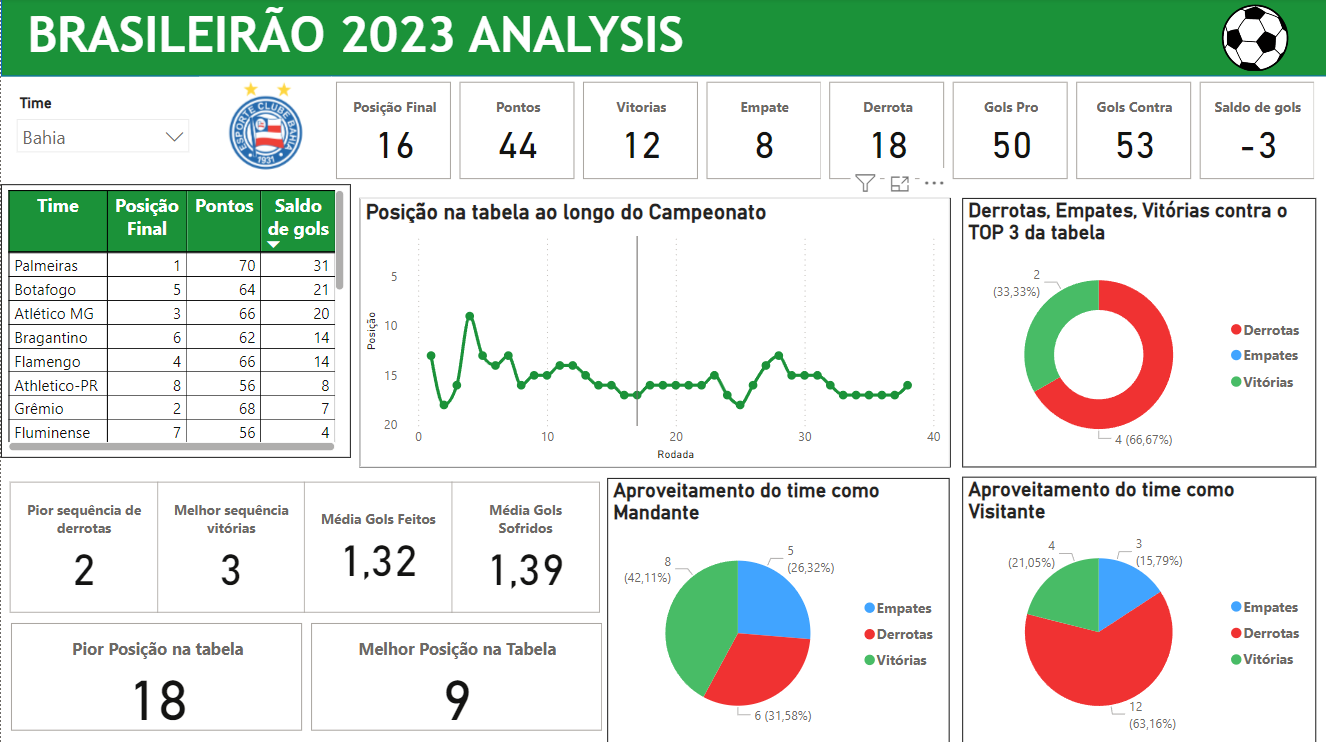

The dashboard page shown, as its layout file describes it:
{"tool":"powerbi","page":{"name":"Desempenho Individual","canvas":[1280,720],"ordinal":3},"visuals":[{"type":"shape","box":[0,0,1280,75.7],"z":0},{"type":"textbox","box":[20,2.9,672.9,72.9],"z":1000},{"type":"cardVisual","fields":{"Data":["Sum(TABELA_CLASS_FINAL.posicao)","Sum(TABELA_CLASS_FINAL.pontos)","Sum(TABELA_CLASS_FINAL.vitoria)","Sum(TABELA_CLASS_FINAL.empate)","Sum(TABELA_CLASS_FINAL.derrota)","Sum(TABELA_CLASS_FINAL.gols_pro)","Sum(TABELA_CLASS_FINAL.gols_contra)","Sum(TABELA_CLASS_FINAL.saldo_de_gols)"]},"box":[318.6,75.7,961.4,104.3],"z":2000},{"type":"areaChart","title":"Posição na tabela ao longo do Campeonato","fields":{"Category":["brasileirao classificacao_2023.Rodada"],"Y":["Sum(brasileirao classificacao_2023.Posicao)"]},"box":[346.2,192.5,570,260],"z":3000},{"type":"cardVisual","fields":{"Data":["Max(brasileirao classificacao_2023.Derrotas_consecutivas)","Max(brasileirao classificacao_2023.Vitorias_consecutivas)","Sum(TABELA_CLASS_FINAL.media_gols_feitos)","Sum(TABELA_CLASS_FINAL.media_gols_sofridos)"]},"box":[3.8,462.5,582.5,136.2],"z":4000},{"type":"cardVisual","fields":{"Data":["Max(brasileirao classificacao_2023.Posicao)","Min(brasileirao classificacao_2023.Posicao)"]},"box":[4.3,598.6,581.4,114.3],"z":5000},{"type":"pieChart","title":"Aproveitamento do time como Visitante","fields":{"Y":["Sum(TABELA_FINAL_VIT_DER_EMP_CASA_FORA.empates_visitante)","Sum(TABELA_FINAL_VIT_DER_EMP_CASA_FORA.derrotas_visitante)","Sum(TABELA_FINAL_VIT_DER_EMP_CASA_FORA.vitorias_visitante)"]},"box":[927.5,462.5,341.2,257.5],"z":6000},{"type":"pieChart","title":"Aproveitamento do time como Mandante","fields":{"Y":["Sum(TABELA_FINAL_VIT_DER_EMP_CASA_FORA.empates_mandante)","Sum(TABELA_FINAL_VIT_DER_EMP_CASA_FORA.derrotas_mandante)","Sum(TABELA_FINAL_VIT_DER_EMP_CASA_FORA.vitorias_mandante)"]},"box":[585.7,462.9,330,257.1],"z":7000},{"type":"donutChart","title":"Derrotas, Empates, Vitórias contra o TOP 3 da tabela","fields":{"Y":["Sum(CONFRONTO_DIRETO_TOP_3.derrotas)","Sum(CONFRONTO_DIRETO_TOP_3.empates)","Sum(CONFRONTO_DIRETO_TOP_3.victories)"]},"box":[927.5,192.5,341.2,260],"z":8000},{"type":"slicer","fields":{"Values":["TABELA_CLASS_FINAL.time"]},"box":[4.3,88.6,187.1,74.3],"z":9000},{"type":"tableEx","fields":{"Values":["TABELA_CLASS_FINAL.time","Sum(TABELA_CLASS_FINAL.posicao)","Sum(TABELA_CLASS_FINAL.pontos)","Sum(TABELA_CLASS_FINAL.saldo_de_gols)"]},"box":[0,180,337.5,263.8],"z":10000},{"type":"simpleImageEBC4593F96F1425FB3D84C5BF02B5075","fields":{"imageURL":["TABELA_CLASS_FINAL.IMG_URL"]},"box":[191.2,76.2,127.5,95],"z":11000},{"type":"image","box":[1145,0,135,75],"z":12000}]}

Visuals, with their boxes in screenshot pixels (x1, y1, x2, y2), scaled from the page's 1280x720 canvas onto the 1326x742 screenshot:
shape: rect(0, 0, 1325, 78)
textbox: rect(21, 3, 718, 78)
cardVisual - Sum(TABELA_CLASS_FINAL.posicao) x Sum(TABELA_CLASS_FINAL.pontos): rect(330, 78, 1325, 185)
"Posição na tabela ao longo do Campeonato" areaChart: rect(359, 198, 949, 466)
cardVisual - Max(brasileirao classificacao_2023.Derrotas_consecutivas) x Max(brasileirao classificacao_2023.Vitorias_consecutivas): rect(4, 477, 607, 617)
cardVisual - Max(brasileirao classificacao_2023.Posicao) x Min(brasileirao classificacao_2023.Posicao): rect(4, 617, 607, 735)
"Aproveitamento do time como Visitante" pieChart: rect(961, 477, 1314, 741)
"Aproveitamento do time como Mandante" pieChart: rect(607, 477, 949, 741)
"Derrotas, Empates, Vitórias contra o TOP 3 da tabela" donutChart: rect(961, 198, 1314, 466)
slicer - TABELA_CLASS_FINAL.time: rect(4, 91, 198, 168)
tableEx - TABELA_CLASS_FINAL.time x Sum(TABELA_CLASS_FINAL.posicao): rect(0, 185, 350, 457)
simpleImageEBC4593F96F1425FB3D84C5BF02B5075 - TABELA_CLASS_FINAL.IMG_URL: rect(198, 79, 330, 176)
image: rect(1186, 0, 1325, 77)
